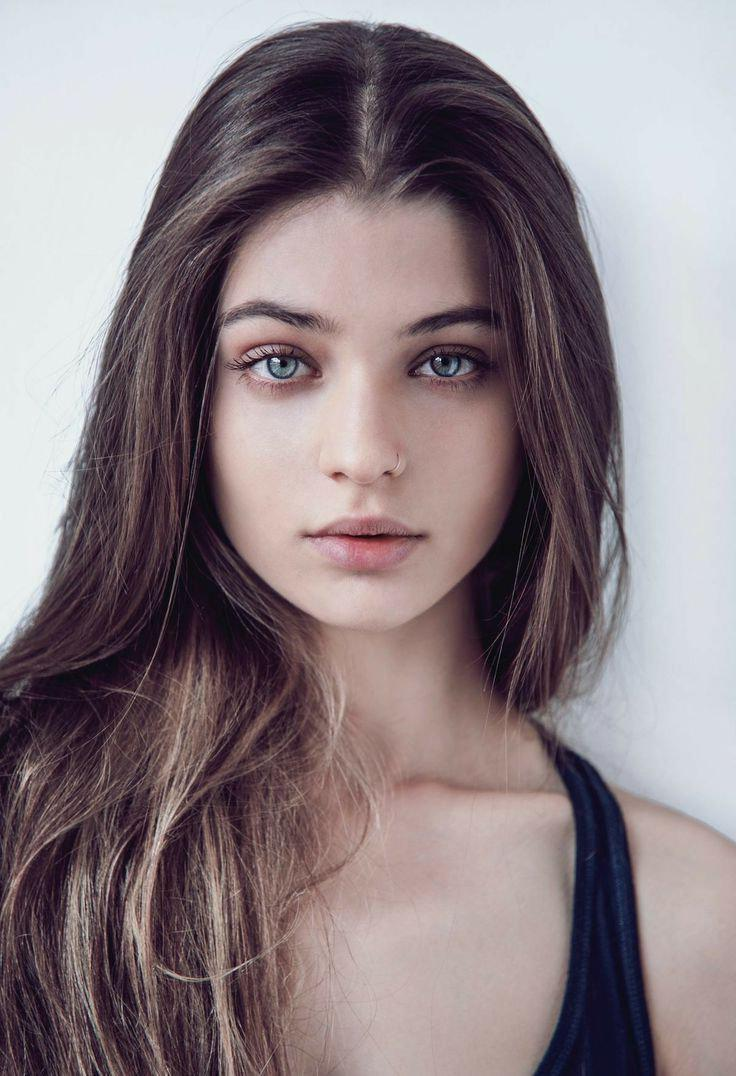Sober: (228, 211, 514, 610)
